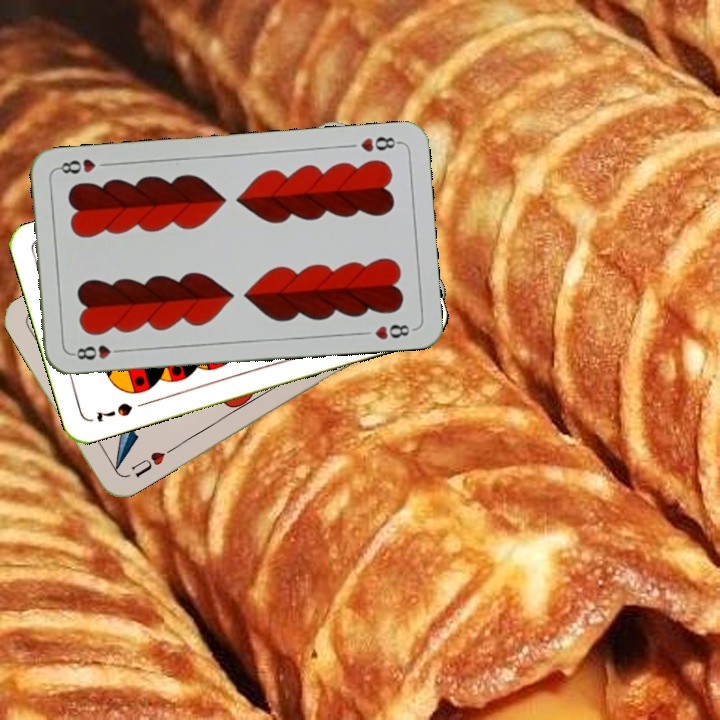H8: (68, 341, 127, 363), (356, 133, 403, 155)
HU: (126, 445, 174, 481)
S7: (92, 398, 135, 425)
